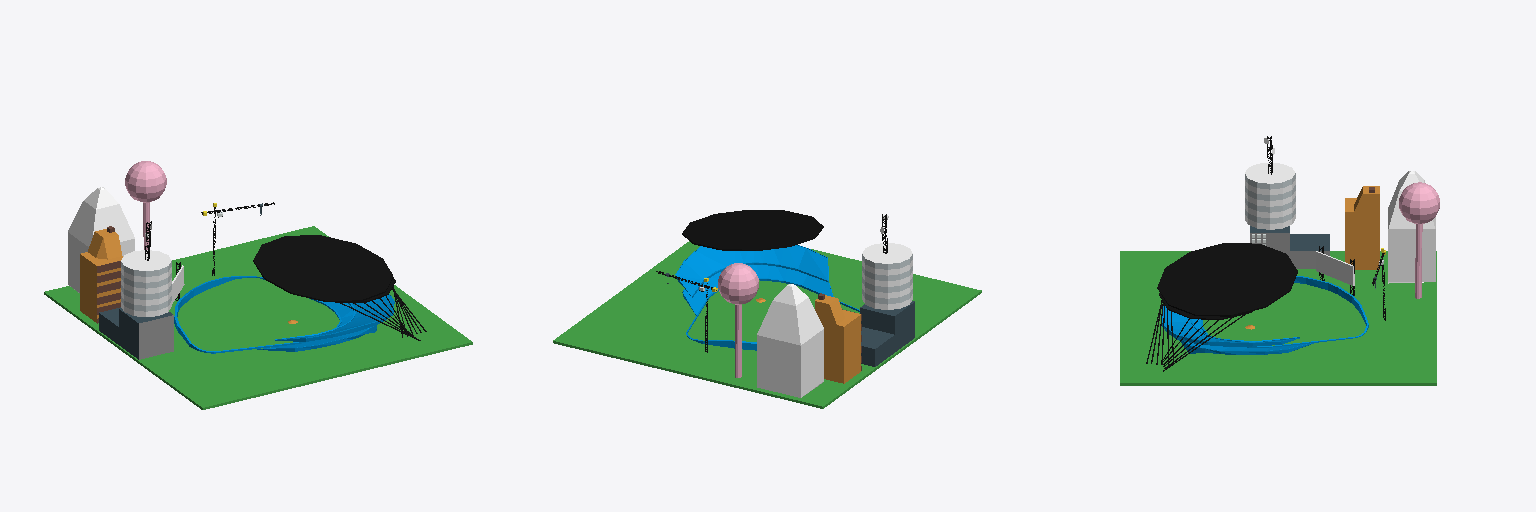
The picture shows the model from 3 angles: view 1: azimuth 30°, elevation 25°; view 2: azimuth 150°, elevation 25°; view 3: azimuth 270°, elevation 25°; orthographic projection.
Parts seen in each view (by area): view 1: group[number redacted], group[number redacted], group[number redacted], group[number redacted], group[number redacted], group[number redacted], group[number redacted], group[number redacted], group[number redacted]; view 2: group[number redacted], group[number redacted], group[number redacted], group[number redacted], group[number redacted], group[number redacted], group[number redacted], group[number redacted]; view 3: group[number redacted], group[number redacted], group[number redacted], group[number redacted], group[number redacted], group[number redacted], group[number redacted], group[number redacted], group[number redacted], group[number redacted].
Boxes of the visible parts, <box> form: group[number redacted]: <box>44,226,472,409</box>; group[number redacted]: <box>253,235,392,301</box>; group[number redacted]: <box>121,250,171,316</box>; group[number redacted]: <box>68,187,134,292</box>; group[number redacted]: <box>99,307,173,359</box>; group[number redacted]: <box>257,294,394,351</box>; group[number redacted]: <box>80,229,122,322</box>; group[number redacted]: <box>125,161,166,202</box>; group[number redacted]: <box>178,276,341,325</box>; group[number redacted]: <box>553,241,981,408</box>; group[number redacted]: <box>757,284,823,397</box>; group[number redacted]: <box>675,245,833,315</box>; group[number redacted]: <box>682,210,823,250</box>; group[number redacted]: <box>862,243,912,309</box>; group[number redacted]: <box>815,295,860,383</box>; group[number redacted]: <box>860,301,914,366</box>; group[number redacted]: <box>718,263,758,304</box>; group[number redacted]: <box>1120,251,1436,385</box>; group[number redacted]: <box>1157,243,1297,316</box>; group[number redacted]: <box>1388,171,1435,283</box>; group[number redacted]: <box>1245,162,1295,229</box>; group[number redacted]: <box>1345,186,1379,269</box>; group[number redacted]: <box>1162,306,1313,354</box>; group[number redacted]: <box>1250,226,1329,268</box>; group[number redacted]: <box>1399,182,1439,223</box>; group[number redacted]: <box>1316,251,1354,285</box>; group[number redacted]: <box>1247,285,1368,347</box>.
Size of the model in its own units: 9.48 by 4.29 by 9.64.